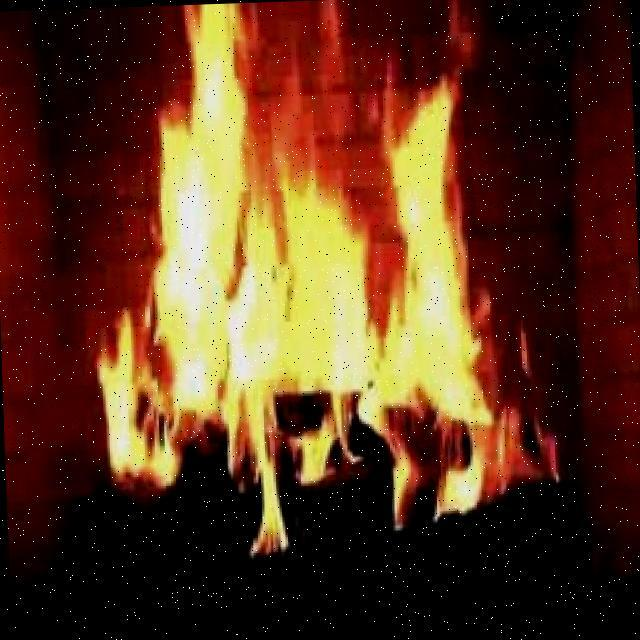Fire: (140, 58, 471, 535)
